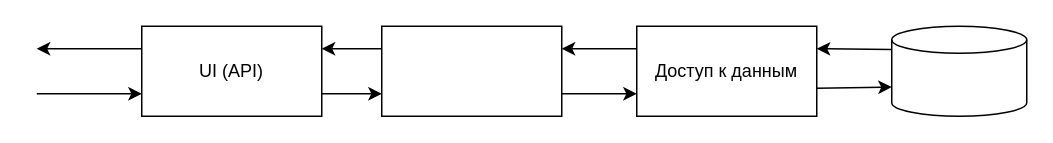
This 1053x143 diagram has some shape labels left out. Each missing label, with the box of its shape:
БД: (890, 25, 1027, 116)
Бизнес-логика: (380, 25, 562, 116)
